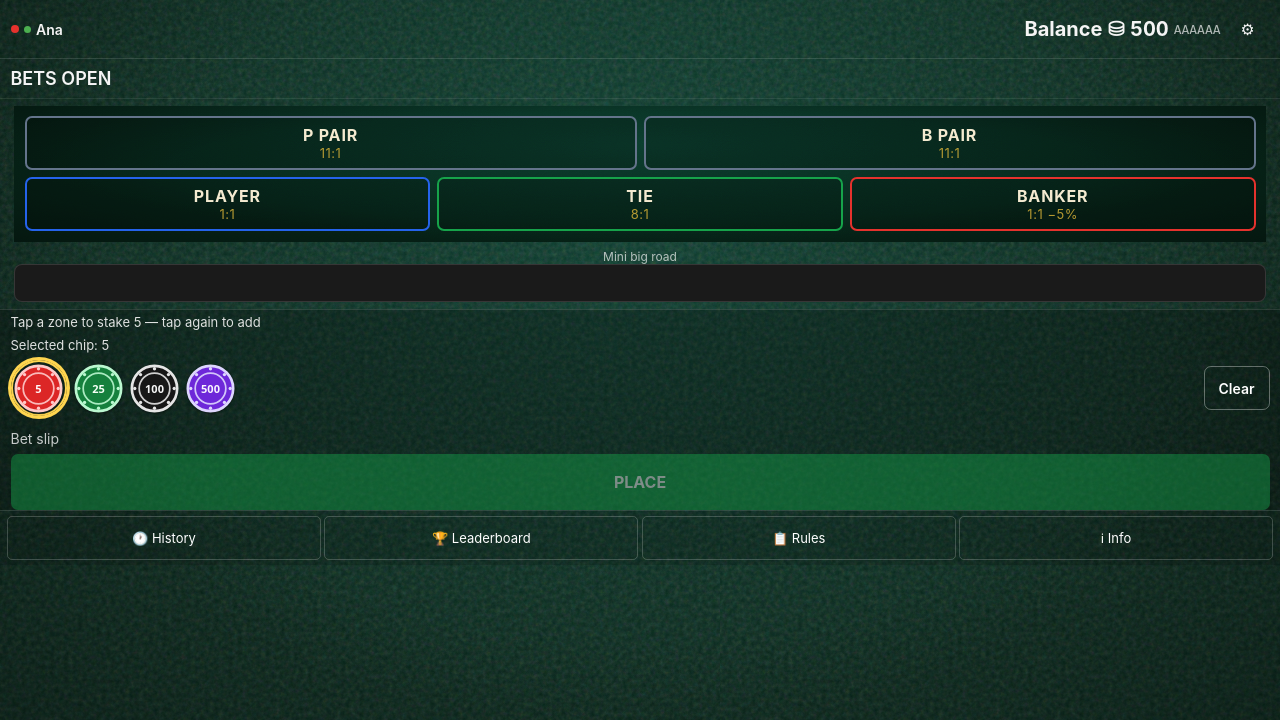
Test: PlayerShell › shows betting hint when round open with pending bets
Click the button with test id "chip-denom-25" at (98, 388), box [74,364,122,413]
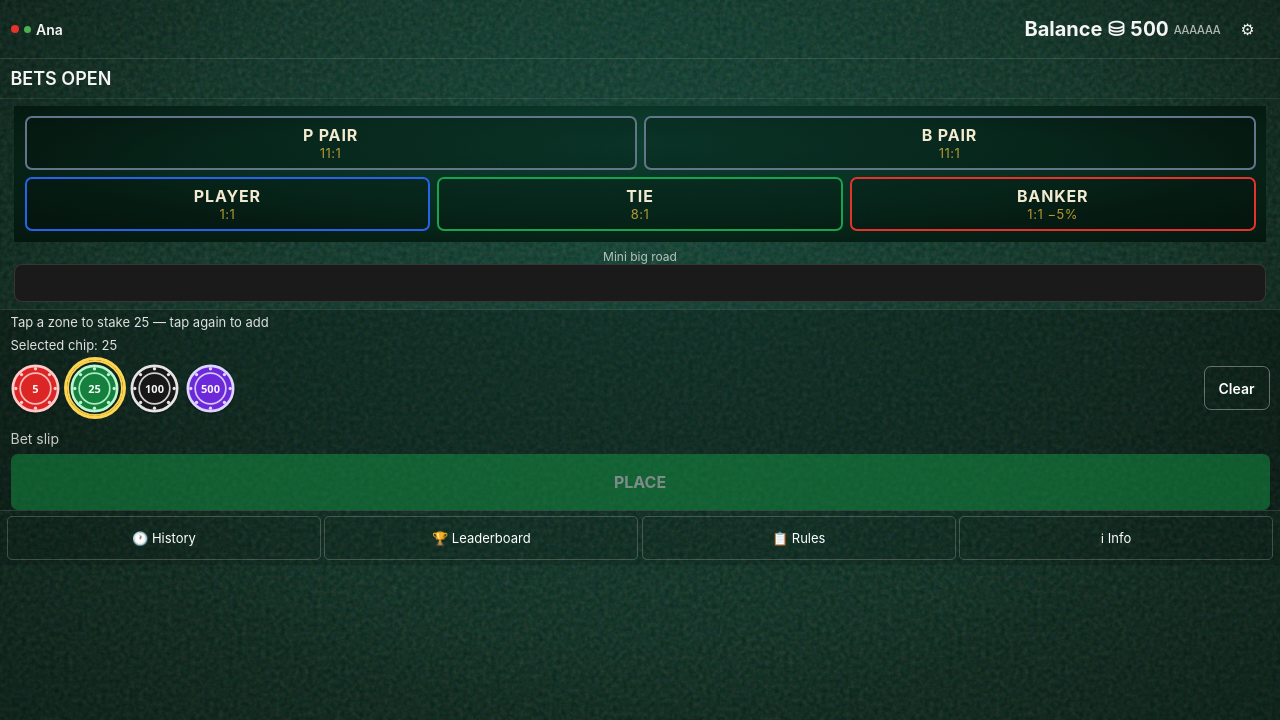
Press the mouse on the button with test id "felt-zone-banker" at (1053, 204), box [850,177,1256,231]
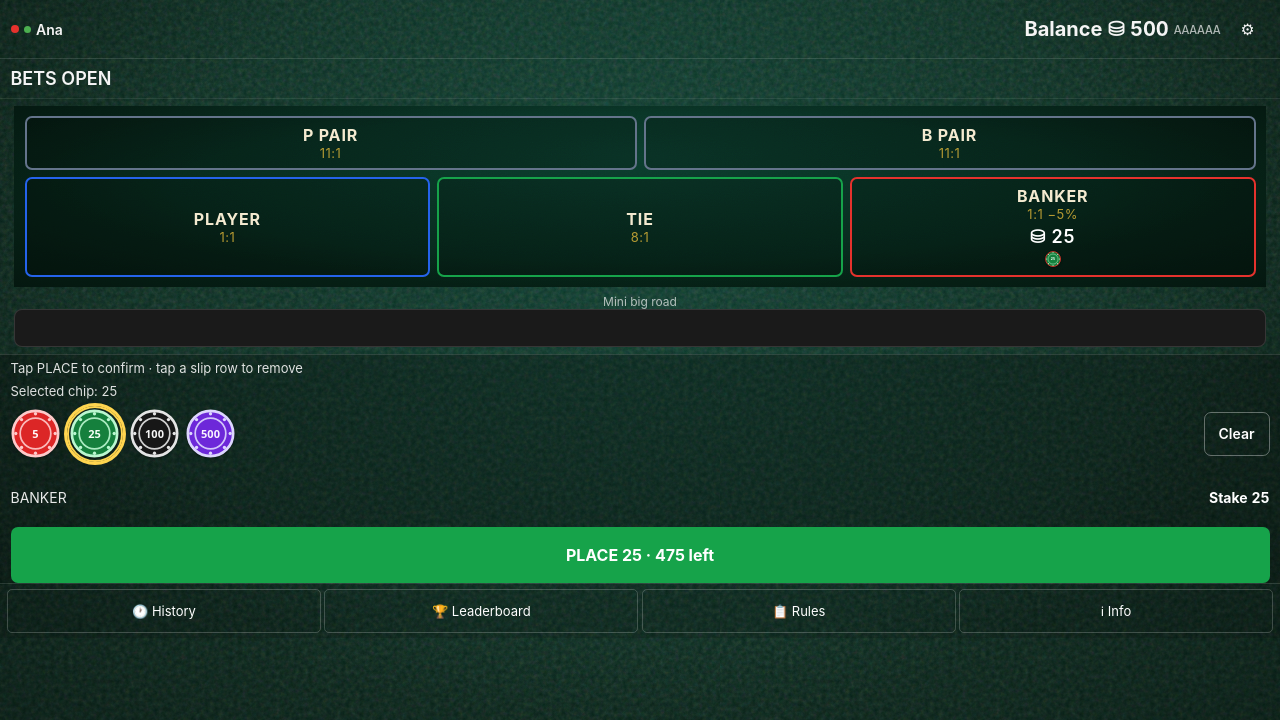
Expected: the text with test id "player-betting-hint" shows "Tap PLACE to confirm", [10,360,303,376]
